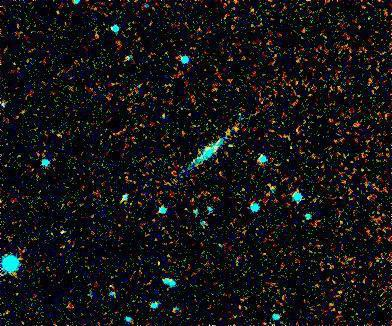star: (222, 112, 252, 142)
